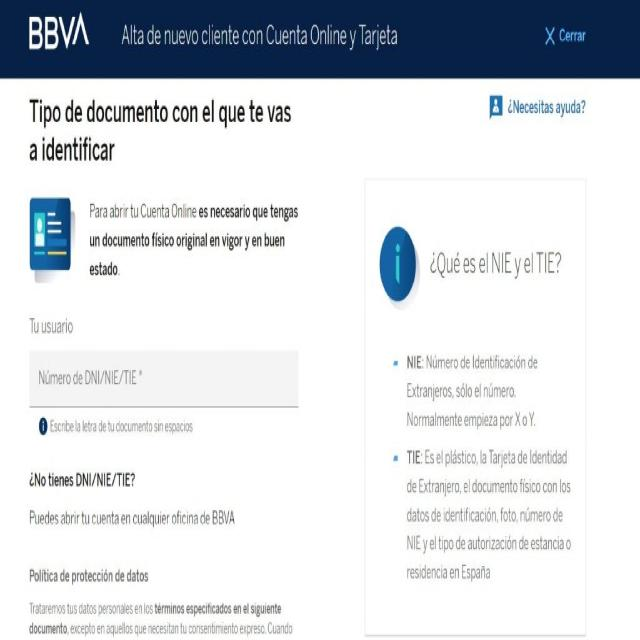BBVA: (28, 11, 89, 52)
